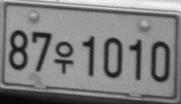0: (149, 40, 170, 83), (103, 36, 123, 78)
1: (79, 34, 101, 76), (127, 39, 148, 80)
7: (30, 30, 52, 71)
8: (8, 29, 28, 70)
우: (53, 39, 75, 74)
